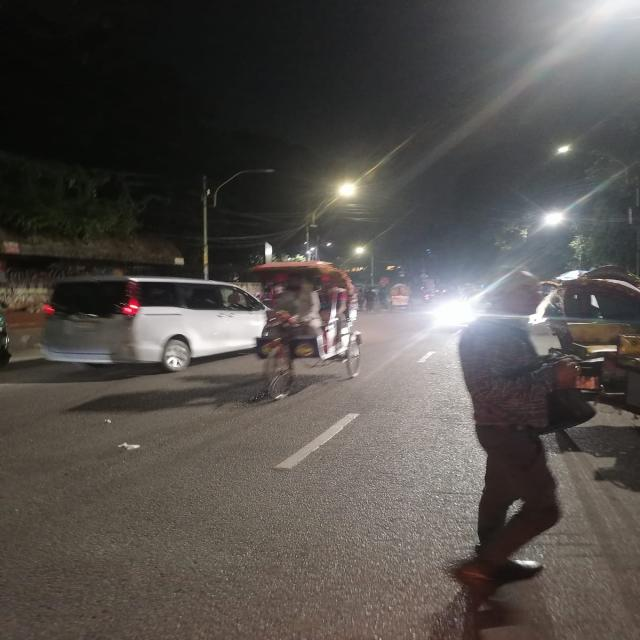person: (454, 270, 590, 596)
